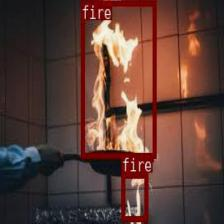fire: (80, 1, 156, 158), (121, 172, 147, 221)
